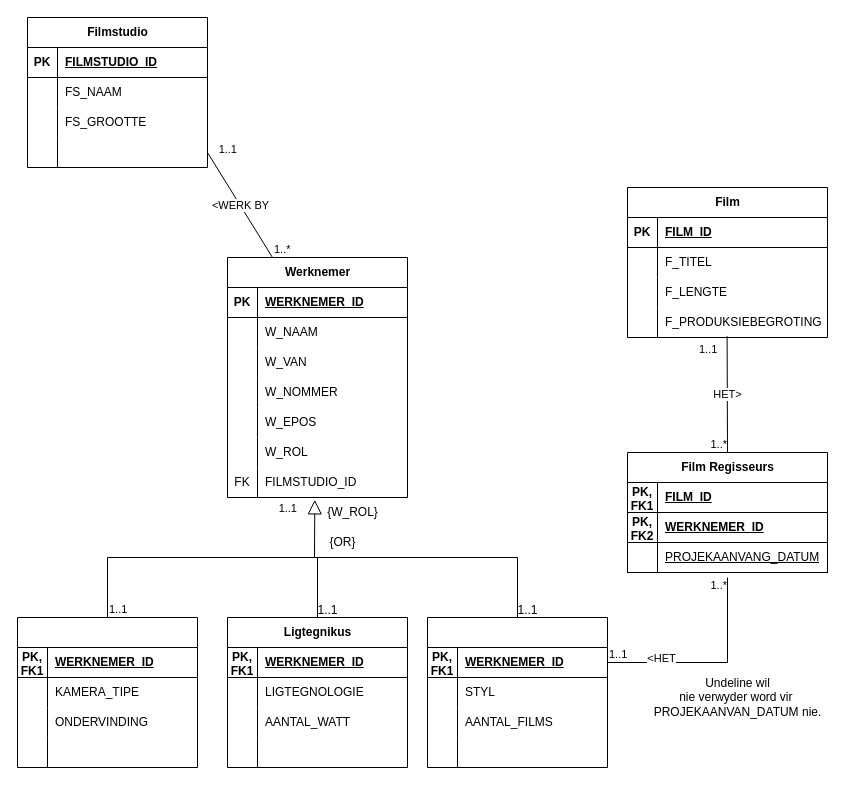
The diagram is 850 pixels wide and 785 high, and some of its shapes have lost their labels. Here are the shapes that lost their labels. From the top down, the box of each, then its label:
(16, 616, 198, 768): Kameraman
(426, 616, 608, 768): Regisseur
